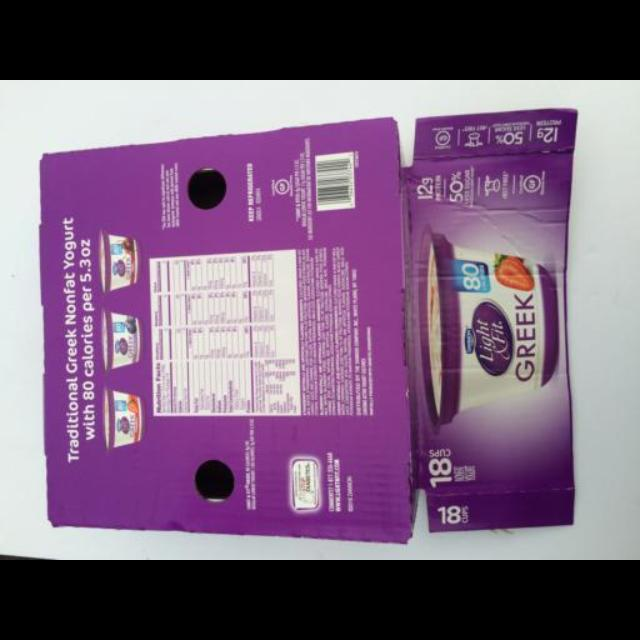papelão: (38, 109, 574, 543)
